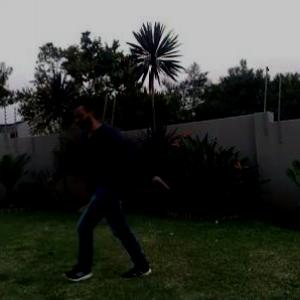land: (45, 88, 170, 285)
